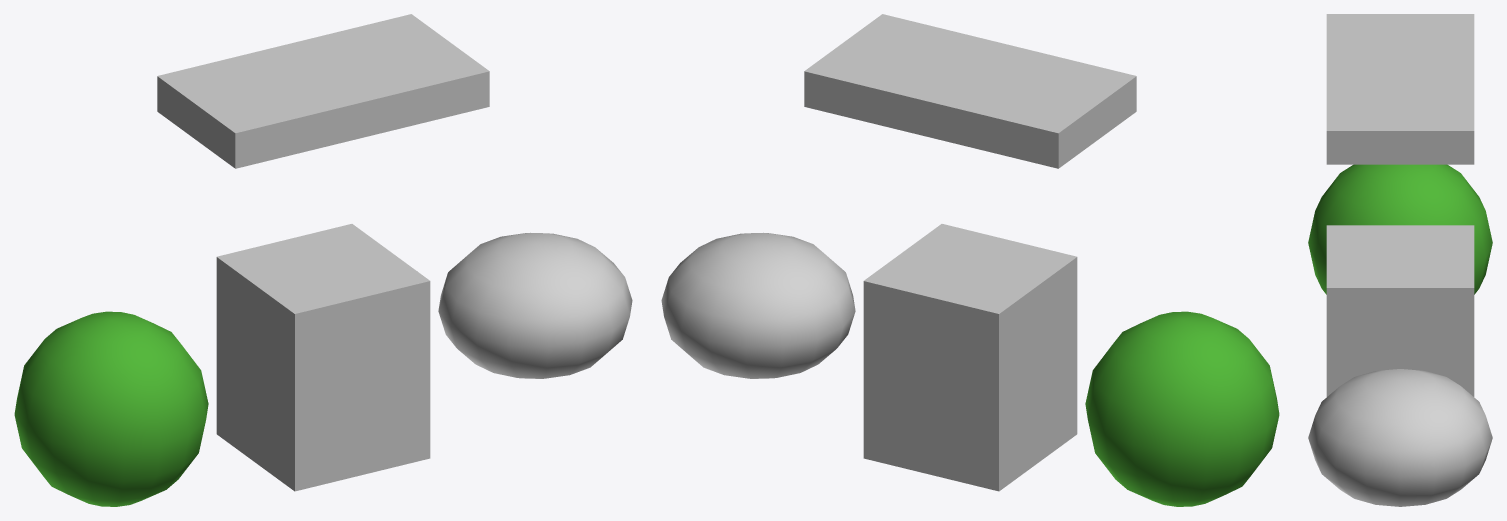
File: gallery.obj
3 views of the same model, side by side, from view 1: azimuth 30°, elevation 25°; view 2: azimuth 150°, elevation 25°; view 3: azimuth 270°, elevation 25° (orthographic). The views are drawn at different scales.
Visible parts, largest first — view 1: glass, lamp, paint, mirror; view 2: glass, lamp, paint, mirror; view 3: glass, lamp, mirror, paint.
Boxes of the visible parts, x1,y1,x2,y2 form: glass: [216, 224, 430, 491]; lamp: [157, 14, 489, 168]; paint: [14, 311, 208, 506]; mirror: [438, 232, 632, 378]; glass: [863, 224, 1077, 491]; lamp: [804, 14, 1136, 168]; paint: [1085, 311, 1279, 506]; mirror: [661, 232, 855, 378]; glass: [1326, 225, 1474, 396]; lamp: [1326, 14, 1474, 164]; mirror: [1308, 369, 1492, 506]; paint: [1308, 164, 1492, 294].
Bounding box in the file's own units: 7 × 4.2 × 2.
